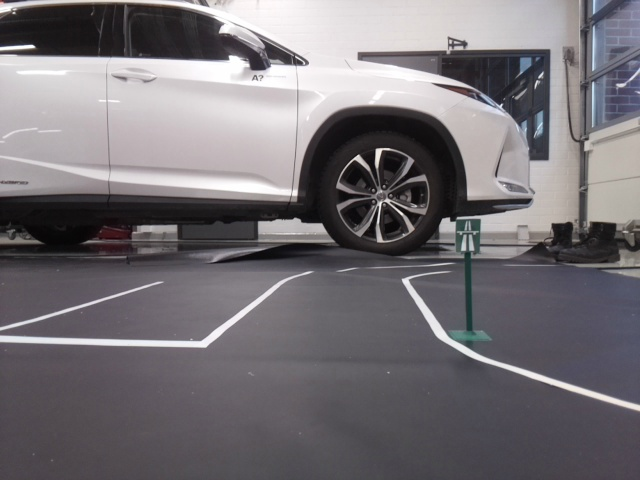HighwayEntrance: (455, 218, 481, 251)
